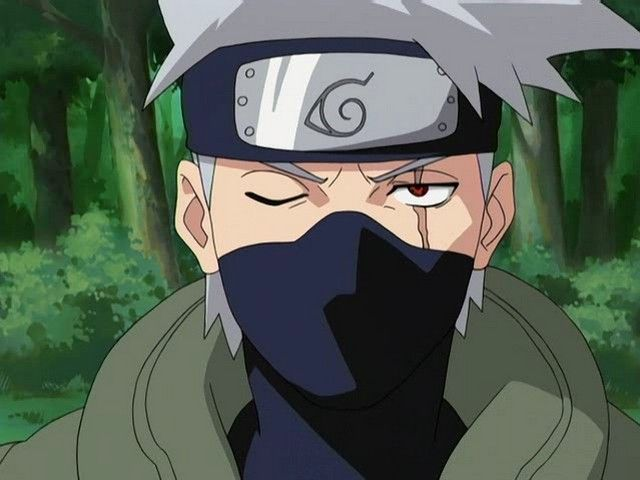kakashi: (164, 28, 519, 407)
